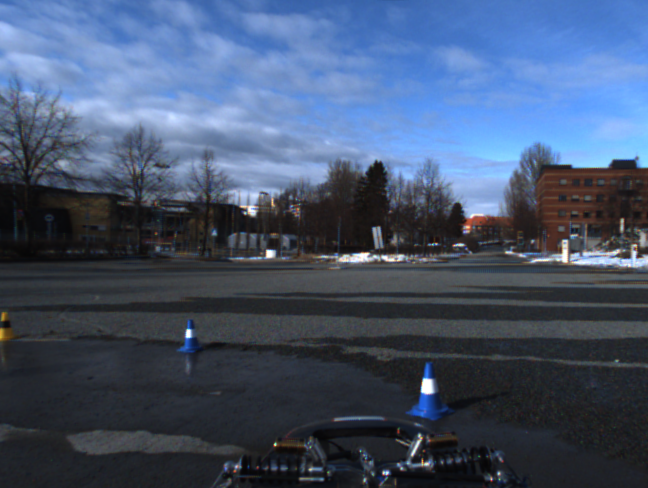cone-small-blue: (405, 361, 456, 421), (177, 320, 203, 353)
cone-small-yellow: (1, 309, 20, 341)
